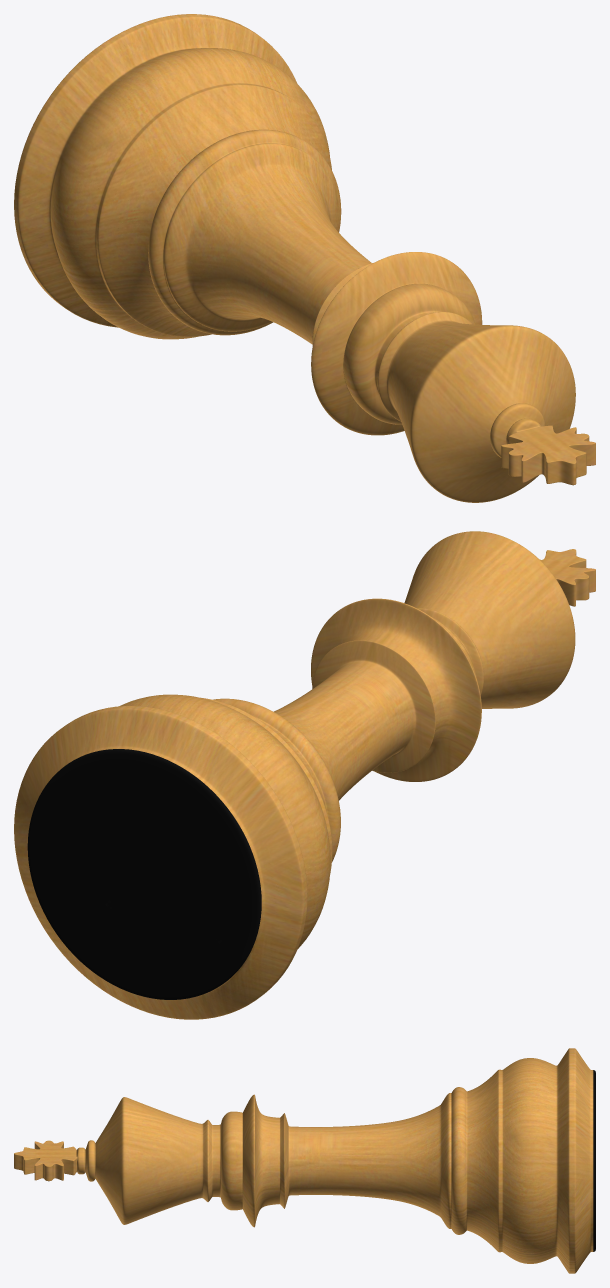
Rendered from 12926_Wooden_Chess_King_Side_A_v1_l3.obj.
3 views of the same model, one above another, from view 1: azimuth 30°, elevation 25°; view 2: azimuth 150°, elevation 25°; view 3: azimuth 270°, elevation 25° (orthographic). The views are drawn at different scales.
Parts seen in each view (by area): view 1: WoodenChessKingSideA; view 2: WoodenChessKingSideA; view 3: WoodenChessKingSideA.
Part boxes in pixels (x1,y1,x2,y2): WoodenChessKingSideA: [14, 14, 595, 502]; WoodenChessKingSideA: [14, 531, 595, 1019]; WoodenChessKingSideA: [14, 1048, 595, 1273].
Bounding box in the file's own units: 4.5 × 4.5 × 11.62.
Materials: 1 (1 with a texture image).
